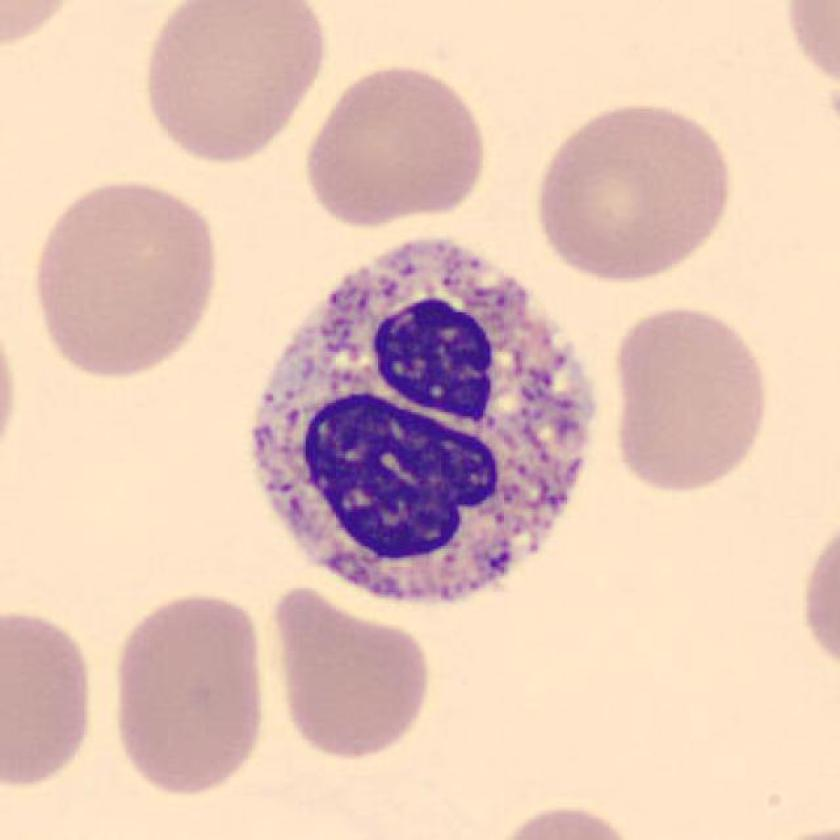neutrophil: (252, 245, 598, 598)
